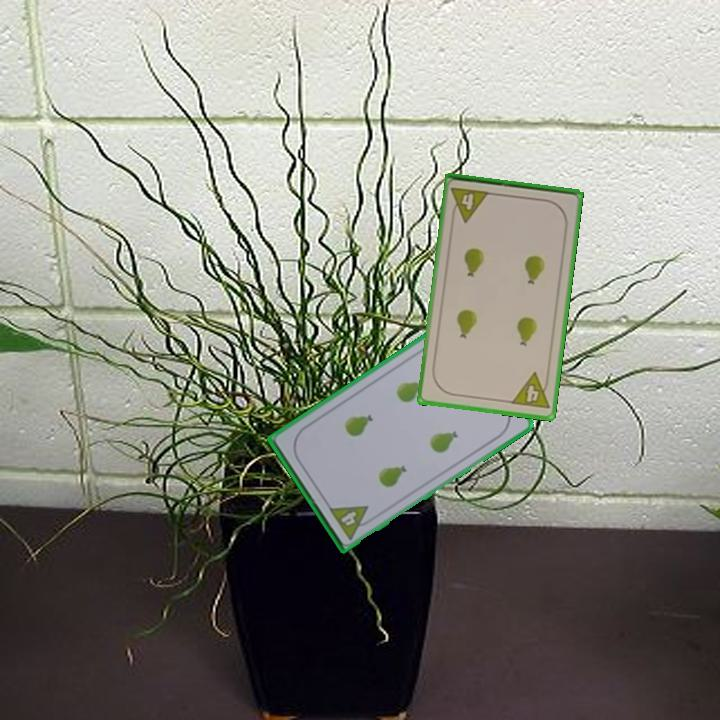4p: (325, 501, 377, 542), (507, 369, 553, 412), (448, 184, 492, 225)
